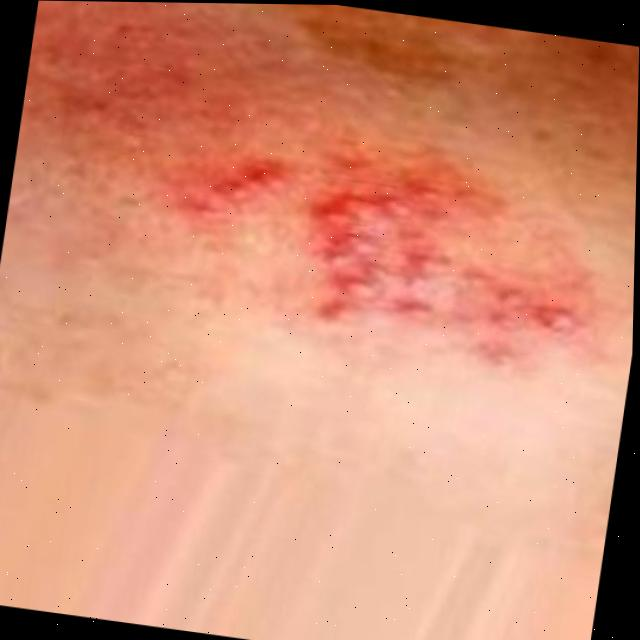Shingles: (163, 132, 598, 375)
